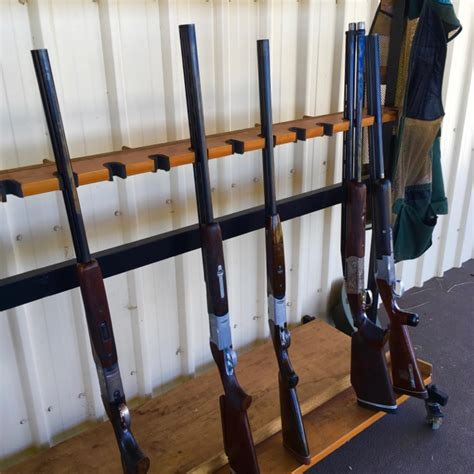gun: (30, 49, 149, 473), (176, 25, 257, 474), (365, 34, 431, 398), (257, 38, 311, 463), (340, 20, 398, 412)
